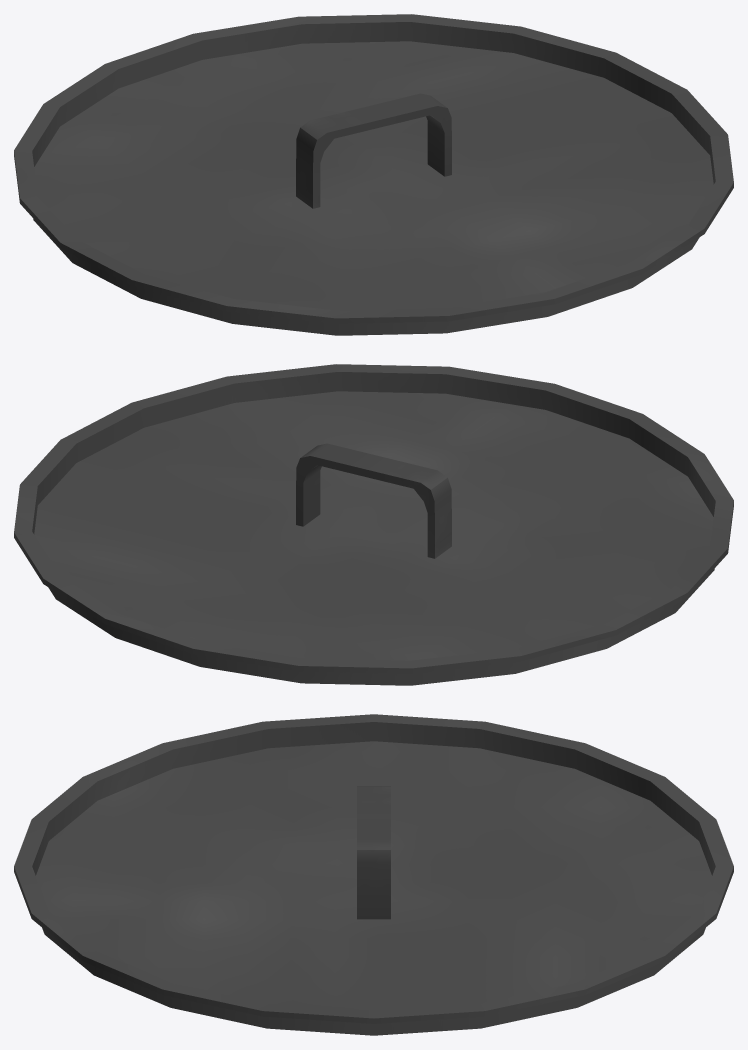
Rendered from cover_pot.fbx.
3 renders of one model, top to bottom at view 1: azimuth 30°, elevation 25°; view 2: azimuth 150°, elevation 25°; view 3: azimuth 270°, elevation 25°, orthographic.
Parts seen in each view (by area): view 1: polySurface12; view 2: polySurface12; view 3: polySurface12.
Part boxes in pixels (x1,y1,x2,y2): polySurface12: [14, 14, 733, 335]; polySurface12: [14, 364, 733, 685]; polySurface12: [14, 714, 733, 1035].
Size of the model in its own units: 25.83 by 3.01 by 25.83.
1 material, 1 textured.
